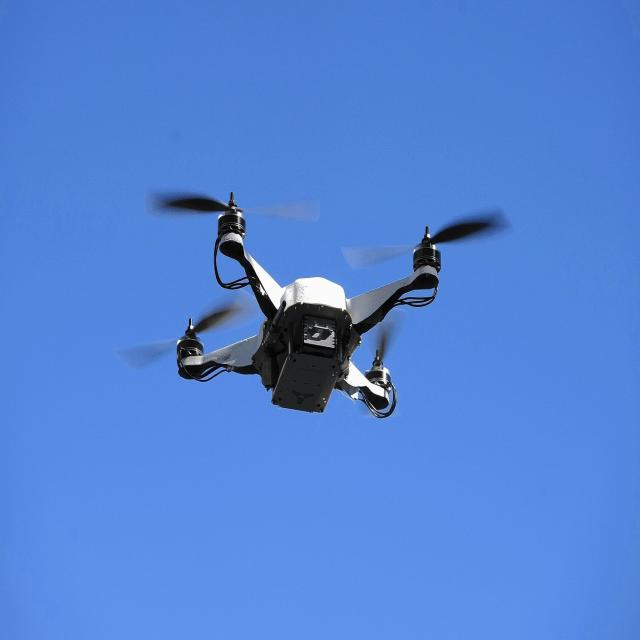drone: (117, 177, 515, 421)
